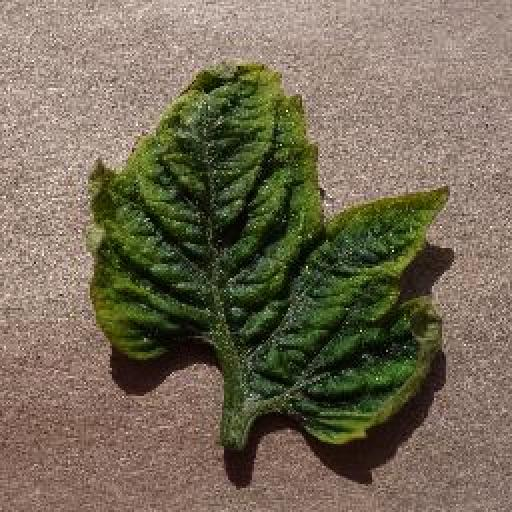disease_tomato: (84, 60, 452, 450)
